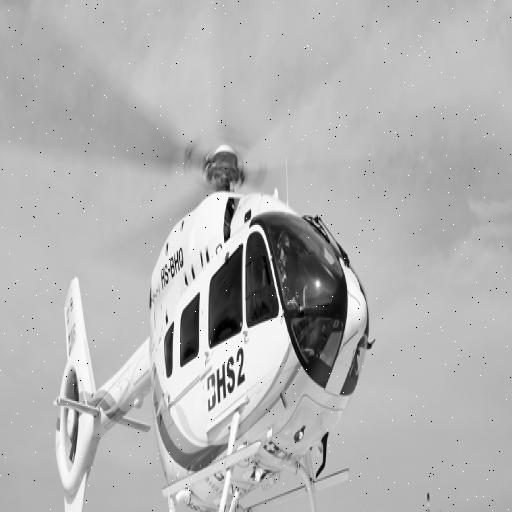helicopter: (44, 81, 388, 512)
